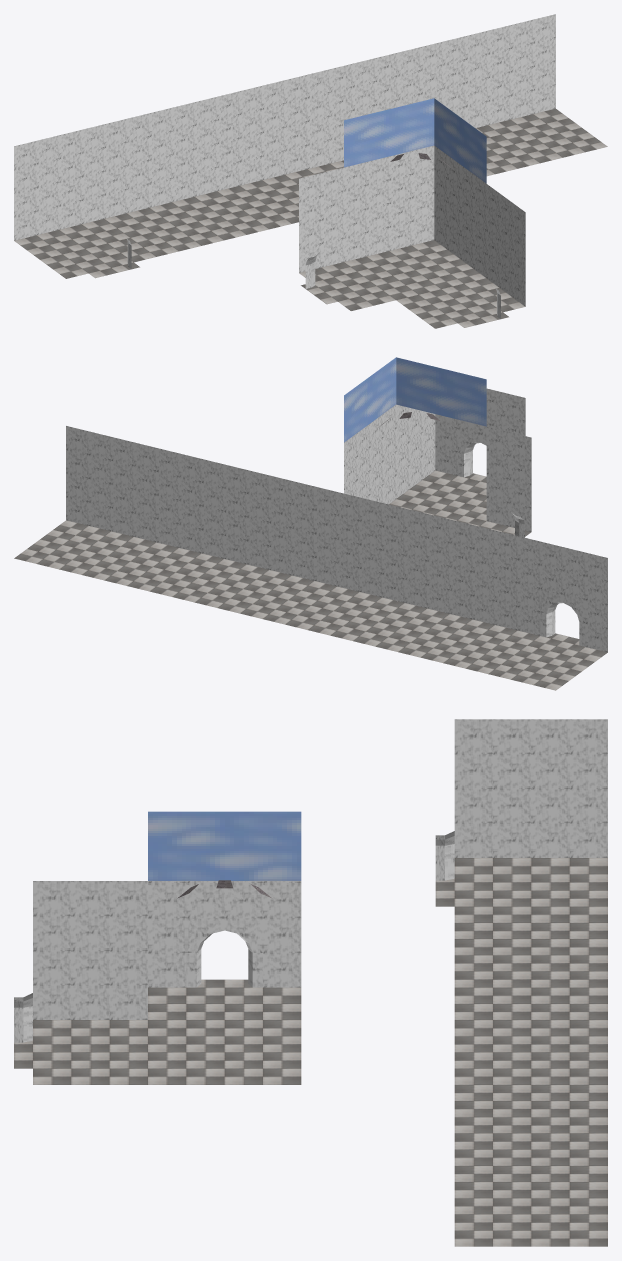
The model's file is Hallway12.glb.
3 views of the same model, one above another, from view 1: azimuth 30°, elevation 25°; view 2: azimuth 150°, elevation 25°; view 3: azimuth 270°, elevation 25° (orthographic). The views are drawn at different scales.
Visible parts, largest first — view 1: Walls.011, Floor.010, Sky.010; view 2: Walls.011, Floor.010, Sky.010; view 3: Floor.010, Walls.011, Sky.010.
Boxes of the visible parts, <box> form: Walls.011: <box>14,14,555,318</box>; Floor.010: <box>14,108,607,328</box>; Sky.010: <box>344,98,486,183</box>; Walls.011: <box>66,388,607,652</box>; Floor.010: <box>14,470,607,690</box>; Sky.010: <box>344,357,486,442</box>; Floor.010: <box>14,858,607,1246</box>; Walls.011: <box>14,719,607,1042</box>; Sky.010: <box>148,811,301,880</box>.
Bounding box in the file's own units: 24 × 6 × 15.5.
4 materials, 4 textured.
